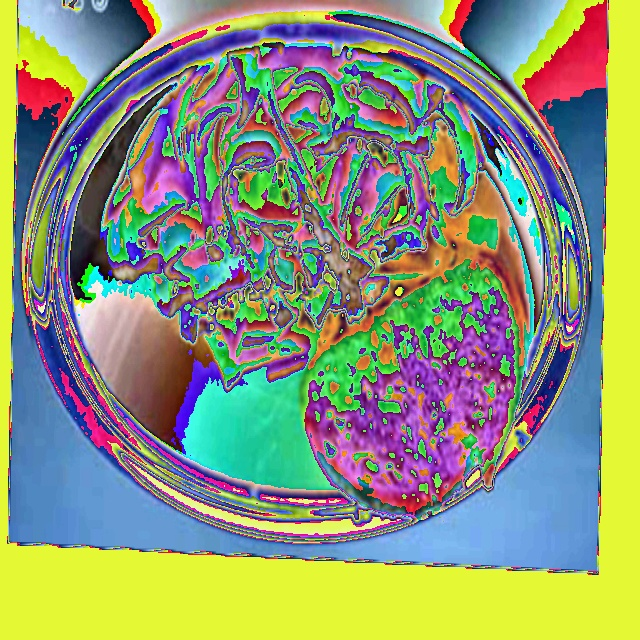background: (103, 42, 529, 520)
